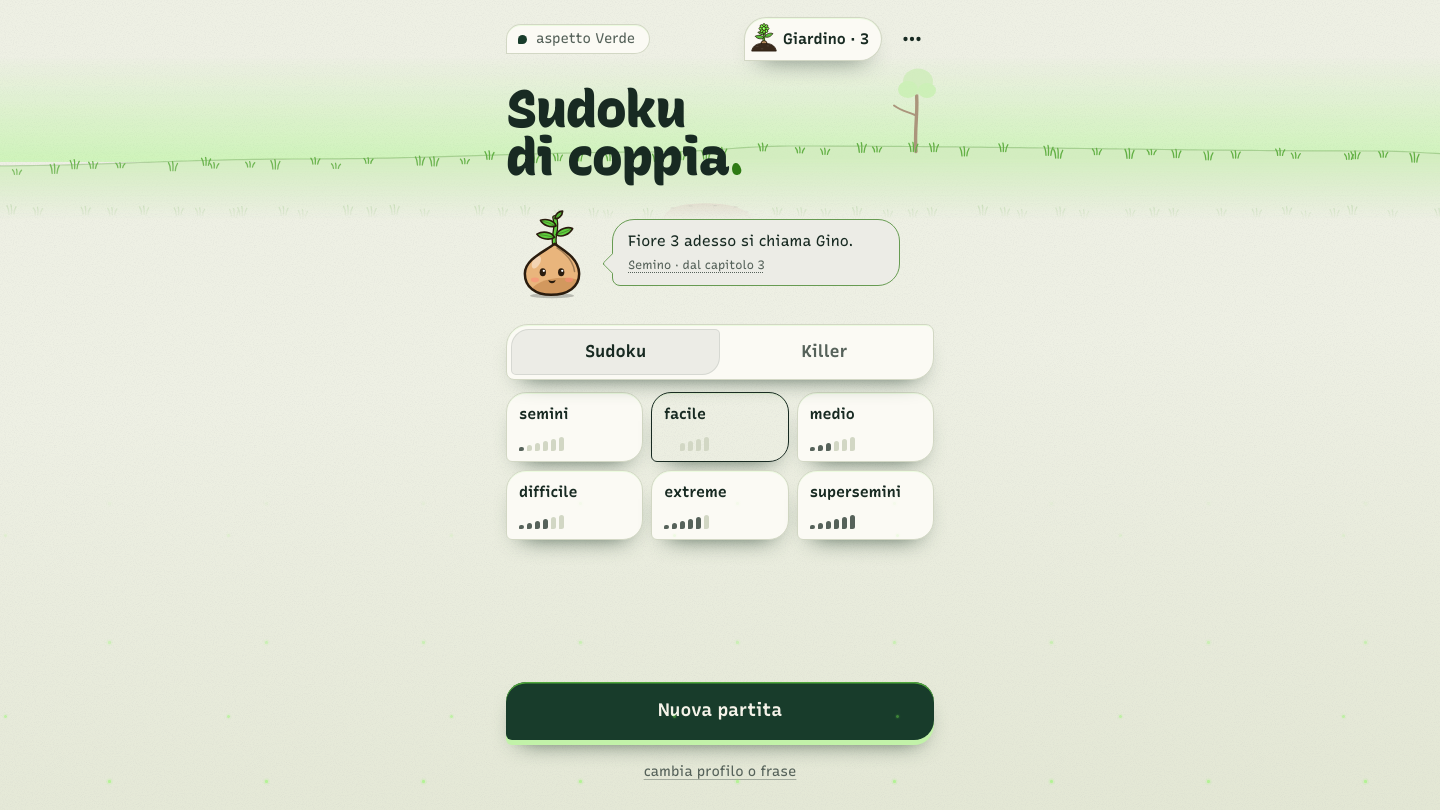
Scenario: H8: eco in Home, firma toccabile e fumetto che si chiude al tocco › la firma è un bottone che apre la rilettura di quel capitolo
Click the button with test id "eco-firma": (700, 261) [628,245,773,277]
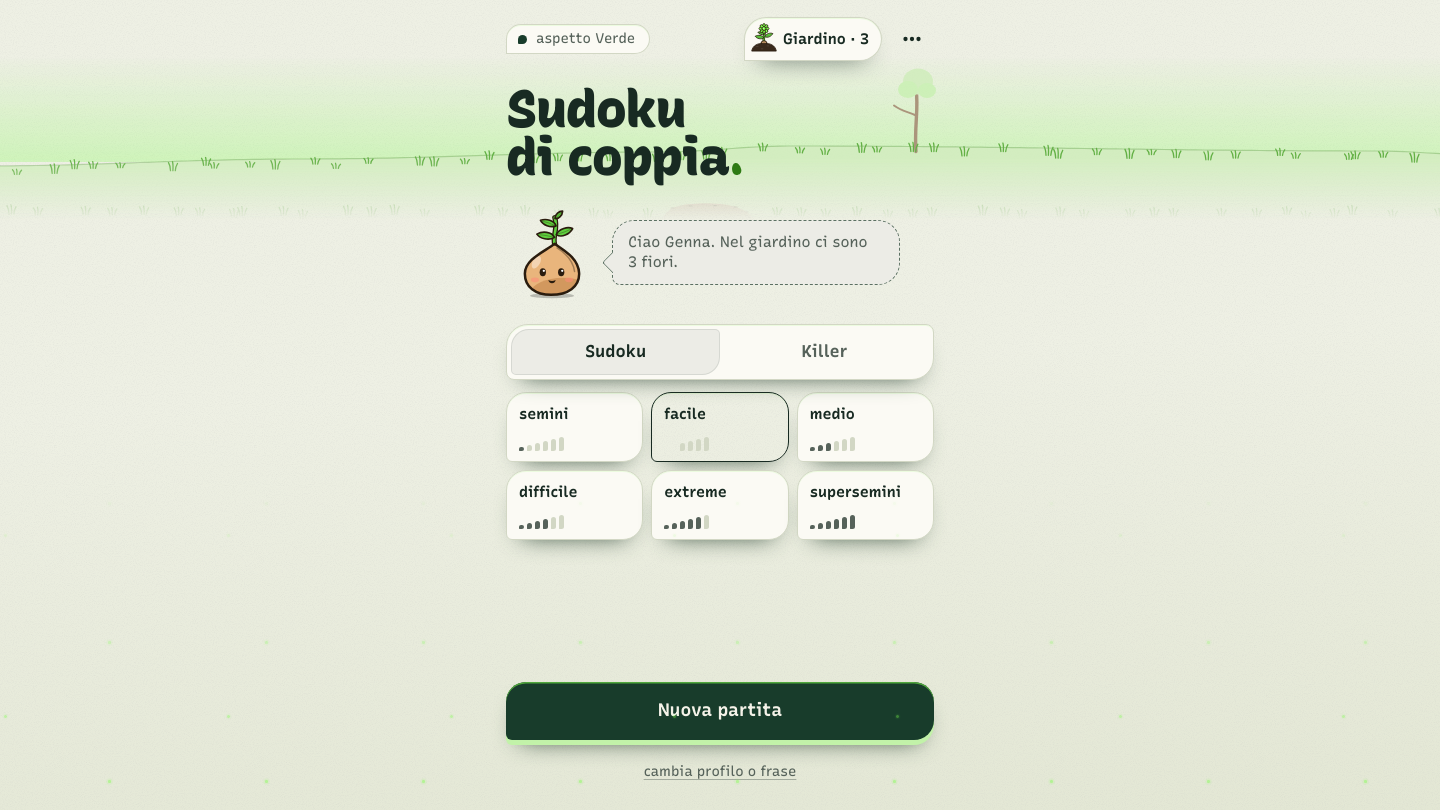
Expected: the element with test id "fumetto-eco" is gone
Expected: the text with class "fumetto-quieto" shows "Ciao Genna", [628,233,868,271]
